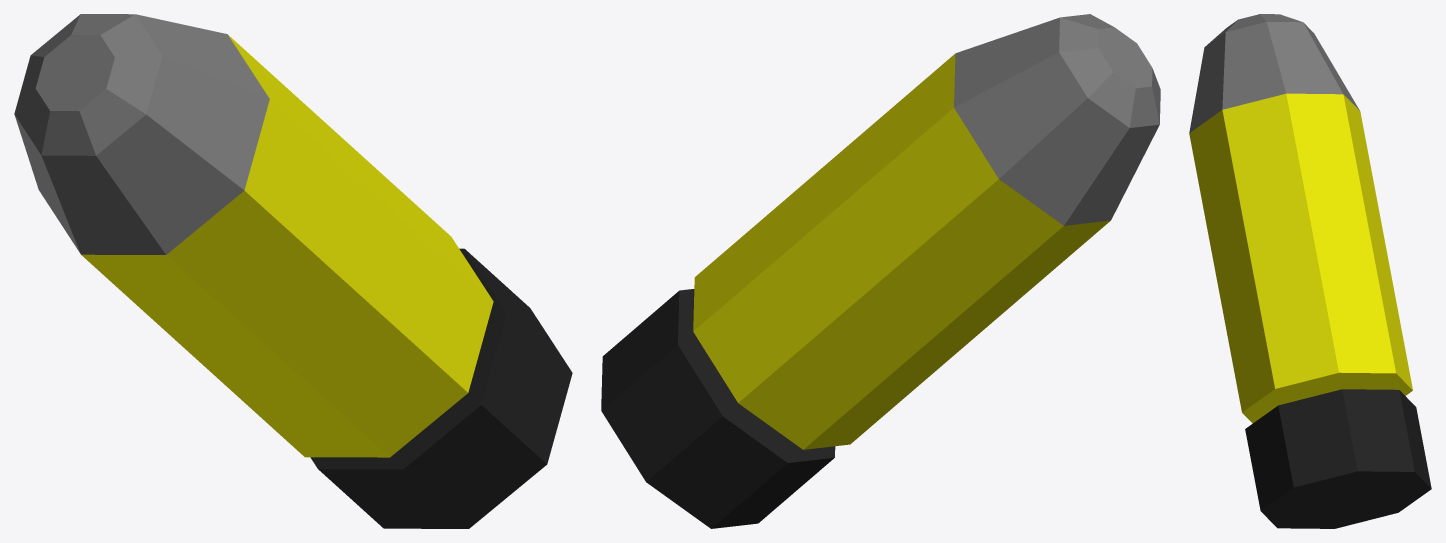
File: BulletTurretPowerUp.fbx
The picture shows the model from 3 angles, left to right: view 1: azimuth 30°, elevation 25°; view 2: azimuth 150°, elevation 25°; view 3: azimuth 270°, elevation 25°; orthographic projection. The views are drawn at different scales.
Parts seen in each view (by area): view 1: Cylinder.009; view 2: Cylinder.009; view 3: Cylinder.009.
Boxes of the visible parts, x1,y1,x2,y2 form: Cylinder.009: (14, 14, 572, 528); Cylinder.009: (601, 14, 1160, 528); Cylinder.009: (1189, 14, 1431, 528).
Bounding box in the file's own units: 206 × 217 × 116.
